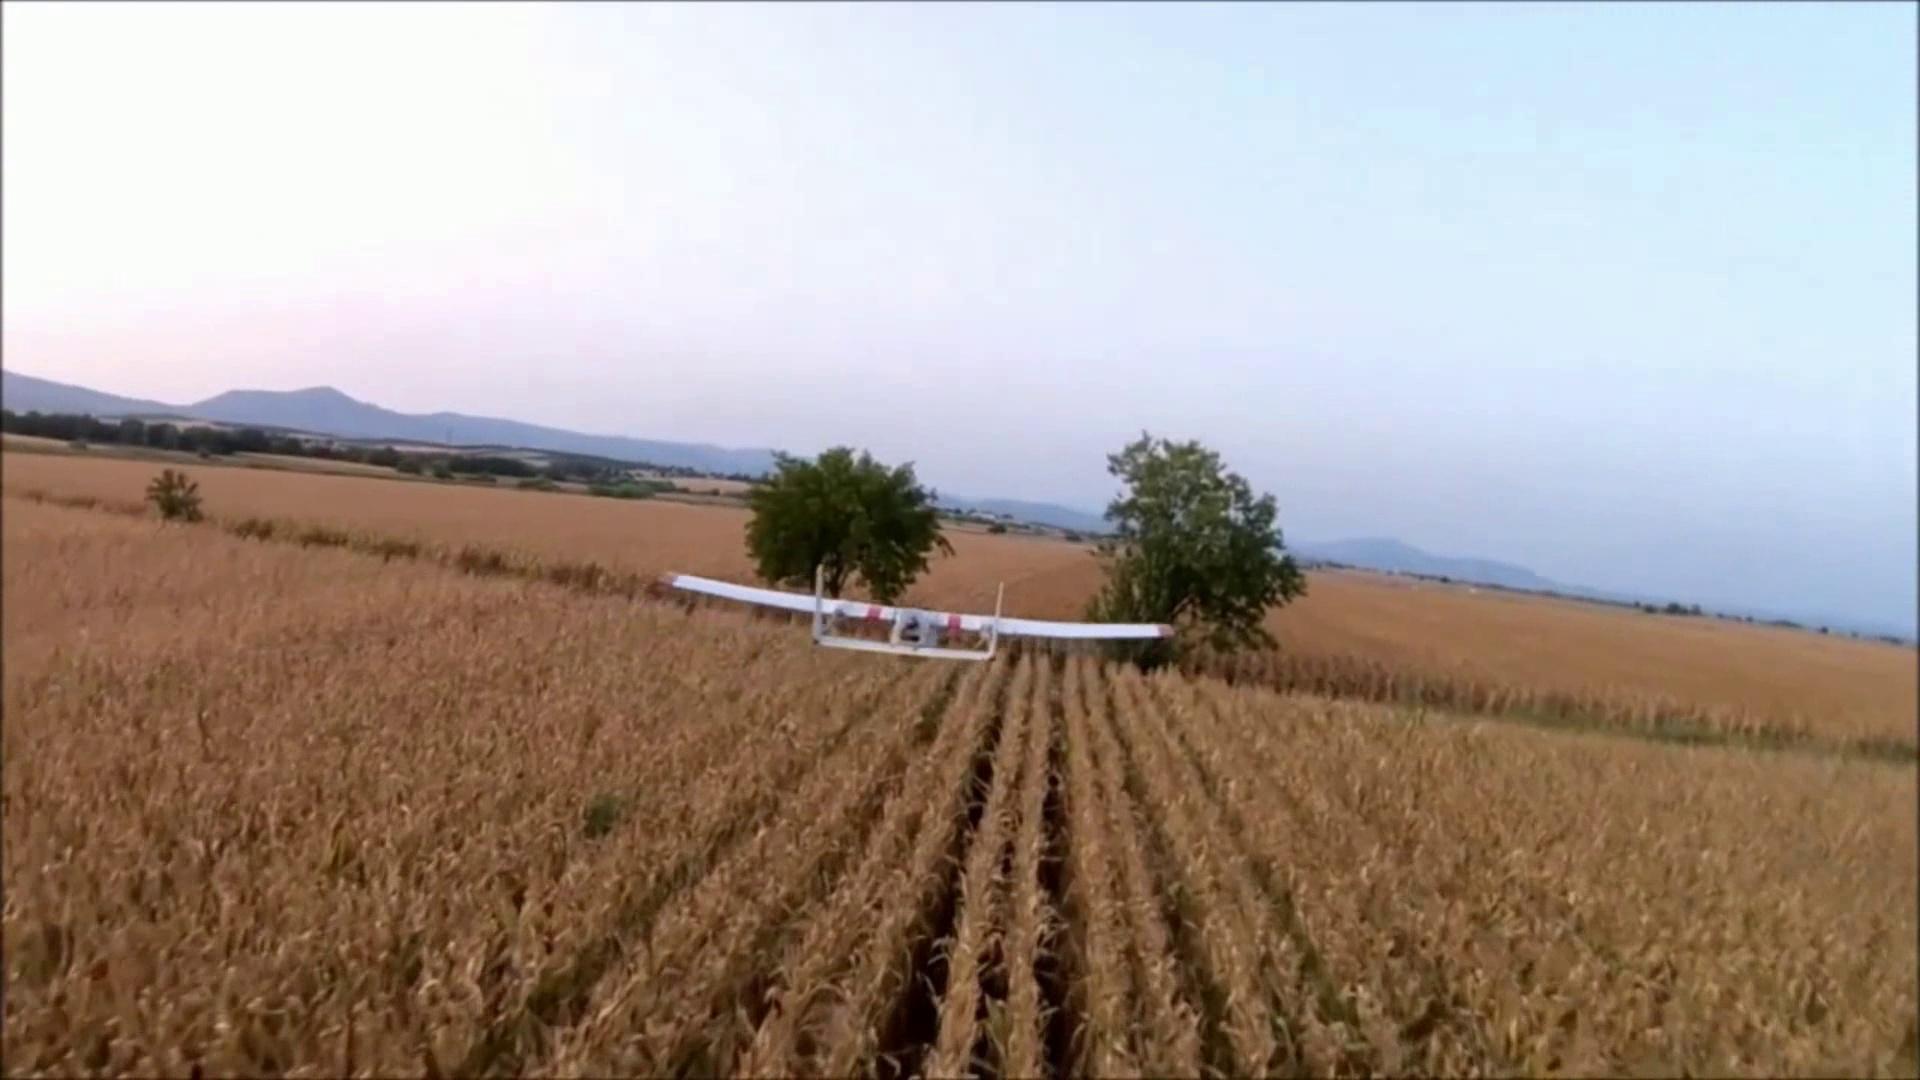airplane: (659, 573, 1177, 668)
